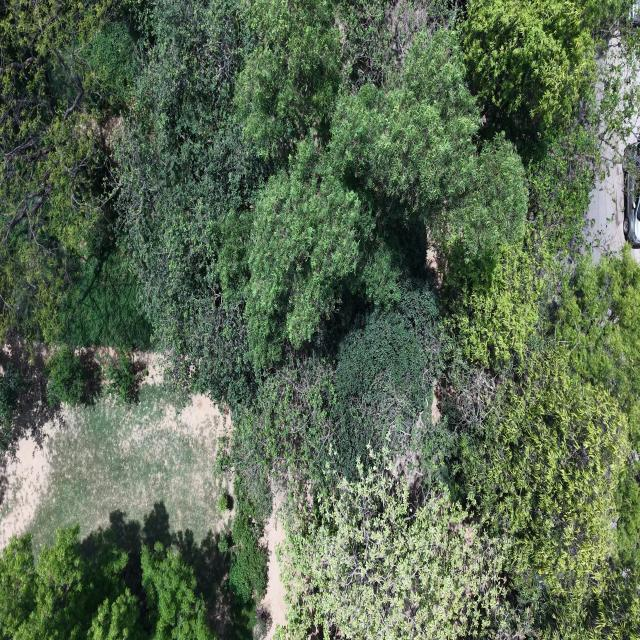DRY_AREA: (0, 353, 232, 554), (0, 386, 228, 553), (262, 509, 285, 639)
VEGETATION_TREE: (0, 0, 639, 638), (246, 30, 526, 365), (114, 0, 266, 402), (455, 355, 630, 628), (232, 283, 451, 501), (0, 0, 136, 343), (280, 451, 509, 639), (0, 505, 251, 639), (556, 249, 639, 619), (459, 0, 638, 157), (461, 0, 610, 136), (234, 0, 342, 164), (556, 248, 639, 445), (0, 528, 143, 638), (445, 235, 549, 371), (527, 116, 599, 264), (61, 249, 150, 350), (0, 333, 61, 462), (141, 542, 214, 639), (229, 509, 267, 603), (44, 345, 100, 406), (87, 591, 144, 639), (45, 345, 84, 406), (0, 363, 23, 452), (103, 353, 137, 403), (217, 492, 232, 513)
